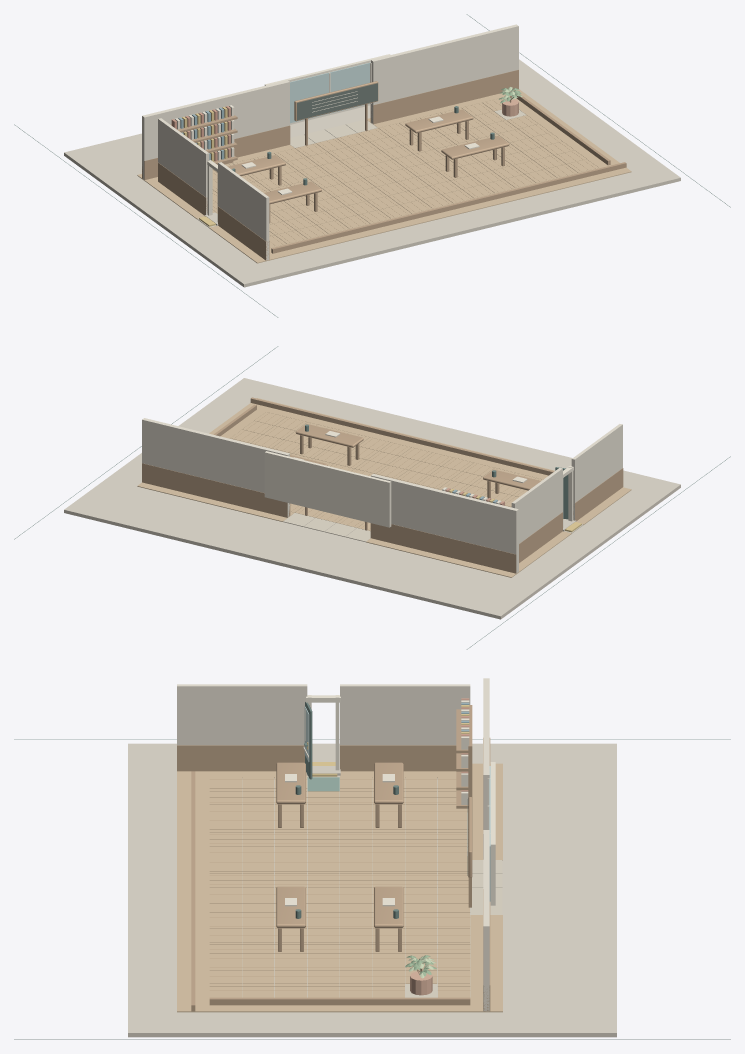
Rendered from room.glb.
The picture shows the model from 3 angles, top to bottom: view 1: azimuth 30°, elevation 25°; view 2: azimuth 150°, elevation 25°; view 3: azimuth 270°, elevation 25°; orthographic projection. The views are drawn at different scales.
Parts seen in each view (by area): view 1: wall foundation, building slab, wainscot, cutaway wall, chalk, cold glass, slate, ground, surrounding corridor seam, door threshold, book; view 2: building slab, cutaway wall, wall foundation, wainscot, chalk, ground, surrounding corridor seam; view 3: wall foundation, building slab, wainscot, cutaway wall, chalk, surrounding corridor seam, ground.
Part boxes in pixels (x1=…): wall foundation: x1=137, y1=89, x2=631, y2=263; building slab: x1=64, y1=59, x2=680, y2=287; wainscot: x1=142, y1=69, x2=626, y2=260; cutaway wall: x1=142, y1=24, x2=518, y2=260; chalk: x1=175, y1=54, x2=479, y2=221; cold glass: x1=290, y1=62, x2=370, y2=123; slate: x1=297, y1=83, x2=377, y2=120; ground: x1=197, y1=109, x2=526, y2=227; surrounding corridor seam: x1=14, y1=14, x2=730, y2=317; door threshold: x1=182, y1=106, x2=227, y2=226; book: x1=171, y1=106, x2=230, y2=161; building slab: x1=64, y1=378, x2=680, y2=619; cutaway wall: x1=142, y1=418, x2=622, y2=573; wall foundation: x1=137, y1=398, x2=631, y2=577; wainscot: x1=142, y1=397, x2=623, y2=573; chalk: x1=264, y1=431, x2=573, y2=527; ground: x1=283, y1=513, x2=583, y2=542; surrounding corridor seam: x1=14, y1=346, x2=730, y2=649; wall foundation: x1=177, y1=763, x2=502, y2=1012; building slab: x1=128, y1=743, x2=616, y2=1037; wainscot: x1=177, y1=705, x2=490, y2=1011; cutaway wall: x1=177, y1=678, x2=489, y2=1011; chalk: x1=285, y1=695, x2=495, y2=906; surrounding corridor seam: x1=14, y1=702, x2=730, y2=1039; ground: x1=307, y1=764, x2=502, y2=997.
Size of what is drawn, in the model's own units: 17.41 by 2.45 by 17.6.
